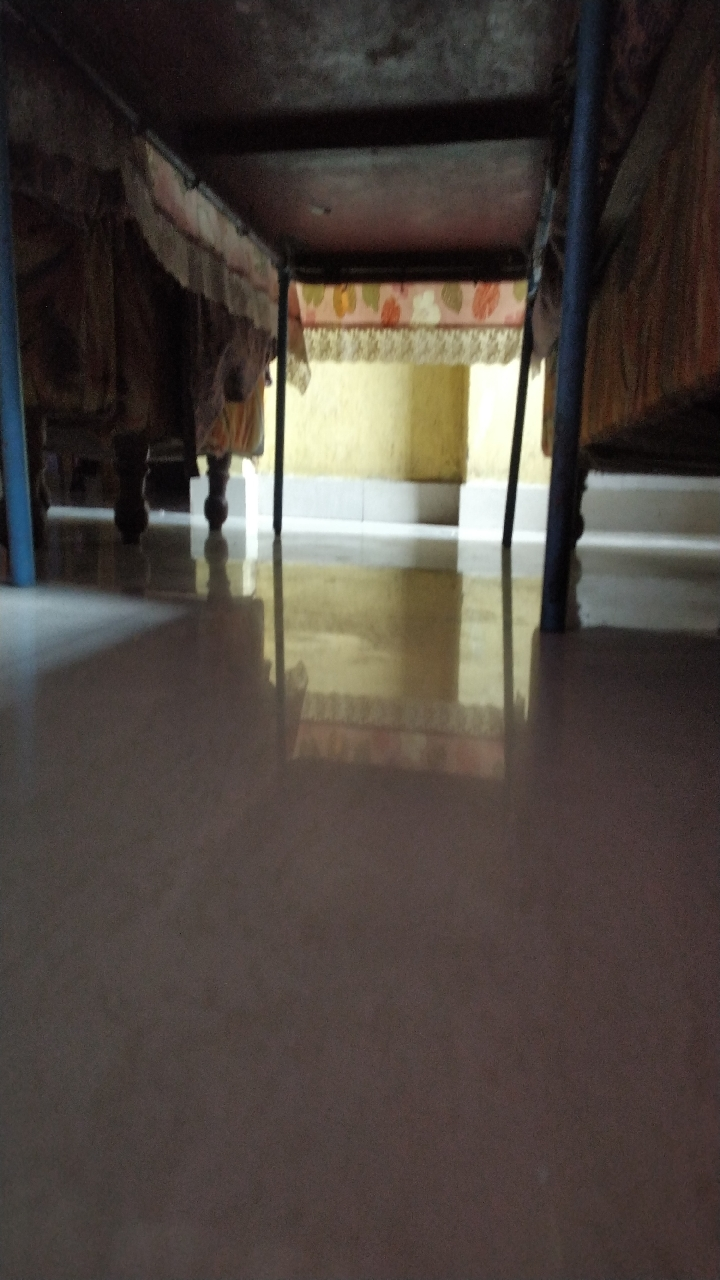Furnitures: (1, 239, 306, 600), (489, 283, 620, 595)
